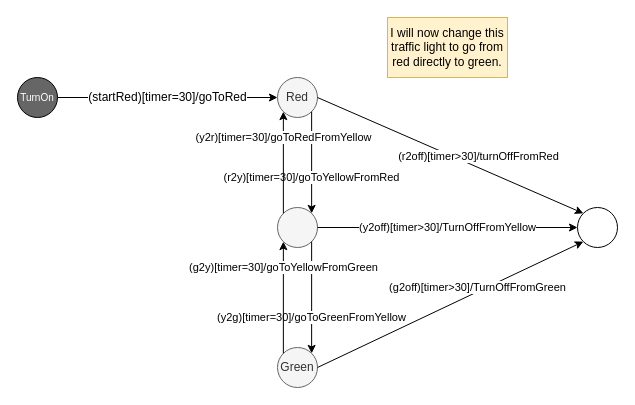
This 635x405 diagram has some shape labels left out. Each missing label, with the centre of its shape:
"TurnOff" goes at point (597, 227).
"Yellow" goes at point (297, 227).
